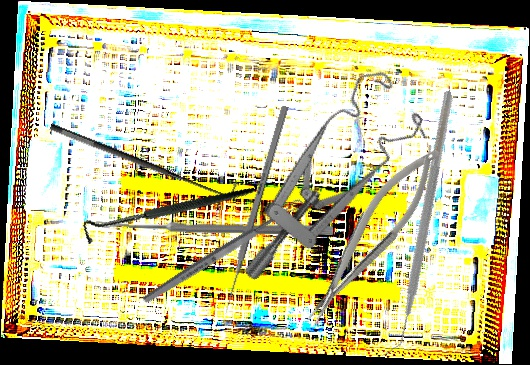Chopper: (302, 90, 530, 356)
Hook Surgical: (79, 148, 256, 282), (48, 109, 239, 205)
Needle Holder: (288, 137, 455, 332)
Pusher: (221, 105, 289, 315)
Speculum: (189, 60, 452, 283)
Surgical Spoon: (140, 196, 306, 307), (95, 219, 334, 236)
